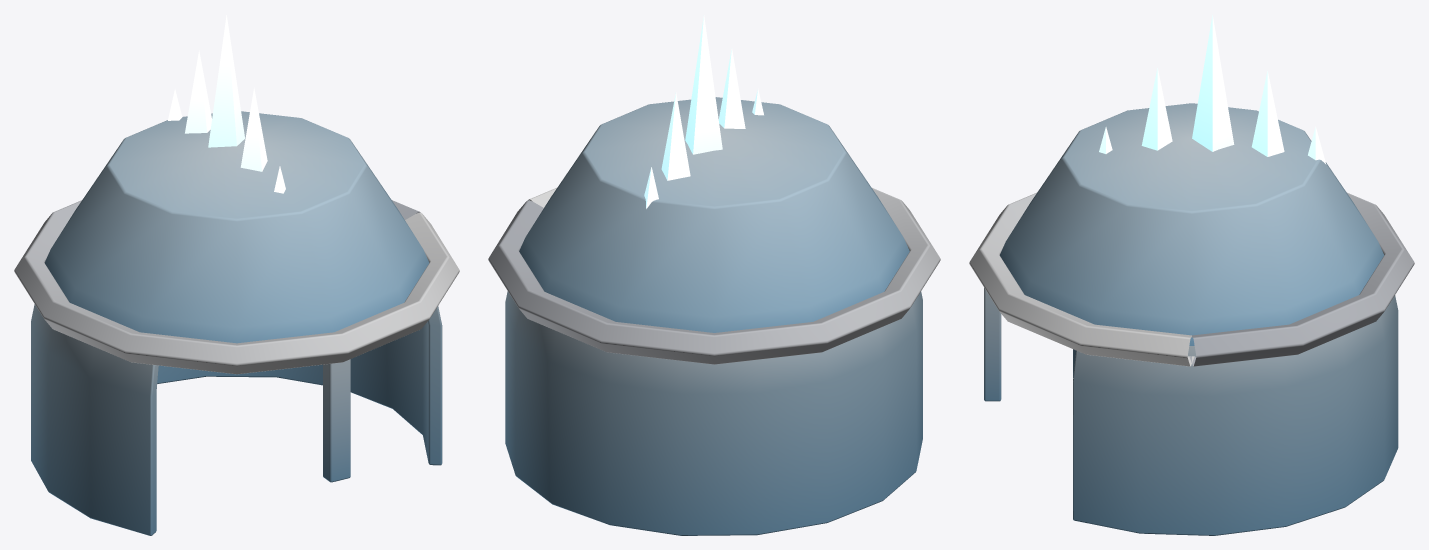
Rendered from lg_frostwarden_helm.glb.
3 views of the same model, side by side, from view 1: azimuth 30°, elevation 25°; view 2: azimuth 150°, elevation 25°; view 3: azimuth 270°, elevation 25° (orthographic).
Parts seen in each view (by area): view 1: lg_frostwarden_helm, lg_frostwarden_helm_glow; view 2: lg_frostwarden_helm, lg_frostwarden_helm_glow; view 3: lg_frostwarden_helm, lg_frostwarden_helm_glow.
Part boxes in pixels (left/top/right/bottom): lg_frostwarden_helm: left=14, top=111, right=459, bottom=535; lg_frostwarden_helm_glow: left=168, top=15, right=285, bottom=193; lg_frostwarden_helm: left=488, top=97, right=940, bottom=535; lg_frostwarden_helm_glow: left=644, top=15, right=763, bottom=208; lg_frostwarden_helm: left=969, top=103, right=1414, bottom=535; lg_frostwarden_helm_glow: left=1099, top=15, right=1326, bottom=164.
Bounding box in the file's own units: 2.59 × 2.8 × 2.59.
